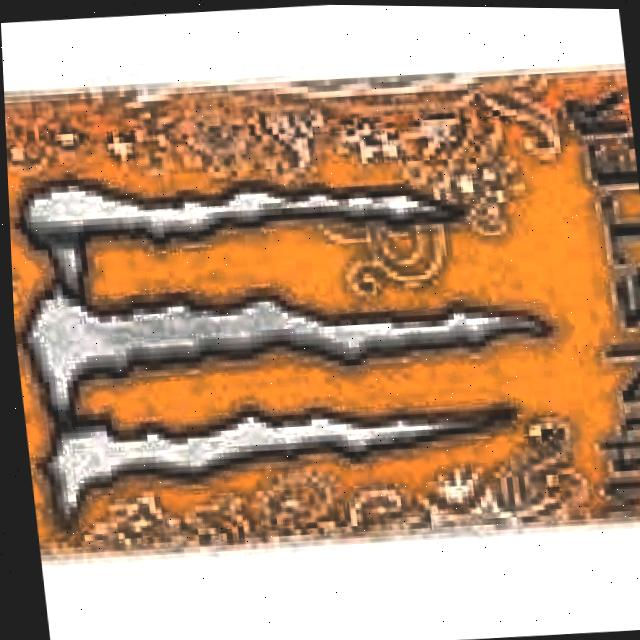metal: (3, 63, 640, 566)
